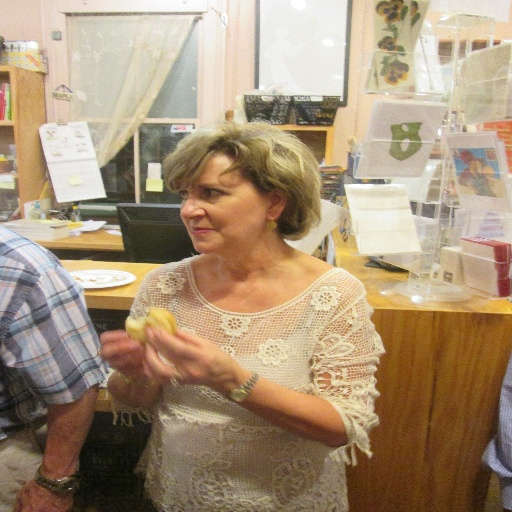hand: (119, 321, 261, 409), (95, 327, 150, 385), (10, 475, 80, 511)
